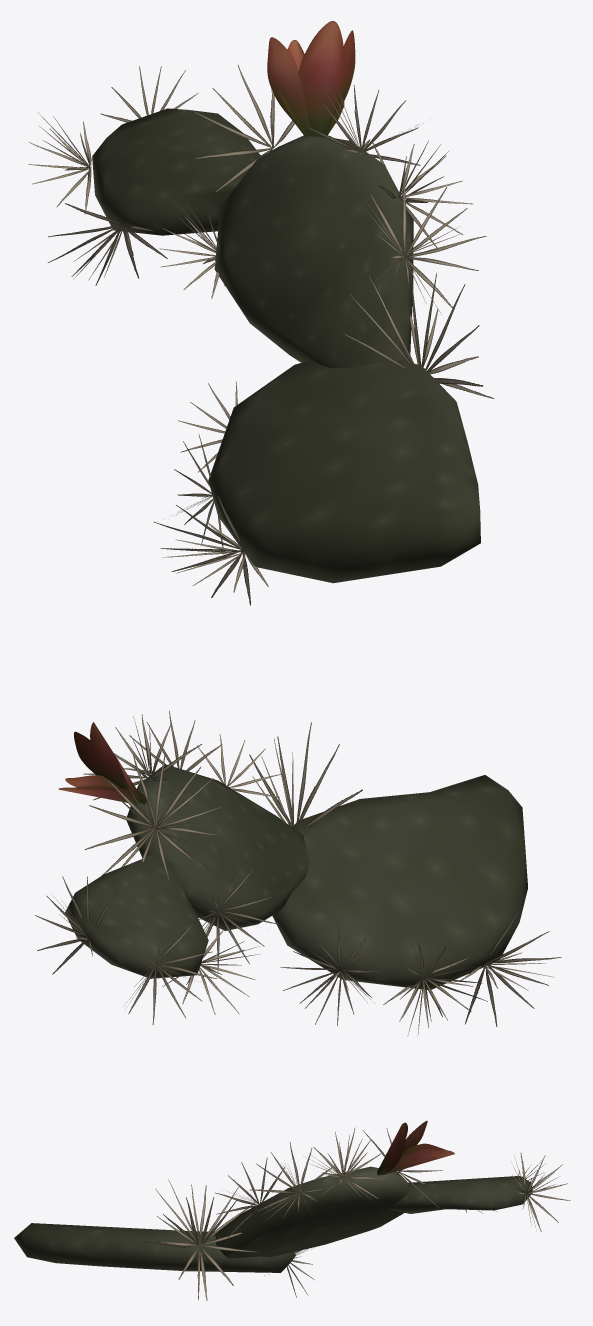
File: DE_Cactus_C_01.fbx
3 renders of one model, top to bottom at view 1: azimuth 30°, elevation 25°; view 2: azimuth 150°, elevation 25°; view 3: azimuth 270°, elevation 25°, orthographic. The views are drawn at different scales.
Parts seen in each view (by area): view 1: DE_Cactus_C_01, DE_Cactus_C_Needles; view 2: DE_Cactus_C_01, DE_Cactus_C_Needles; view 3: DE_Cactus_C_01, DE_Cactus_C_Needles.
Part boxes in pixels (bbox=[...]): DE_Cactus_C_01: bbox=[92, 108, 480, 583]; DE_Cactus_C_Needles: bbox=[28, 21, 494, 605]; DE_Cactus_C_01: bbox=[65, 764, 527, 989]; DE_Cactus_C_Needles: bbox=[35, 710, 561, 1036]; DE_Cactus_C_01: bbox=[14, 1166, 532, 1272]; DE_Cactus_C_Needles: bbox=[144, 1120, 570, 1300].
Size of the model in its own units: 0.6905 by 0.7123 by 1.26.
